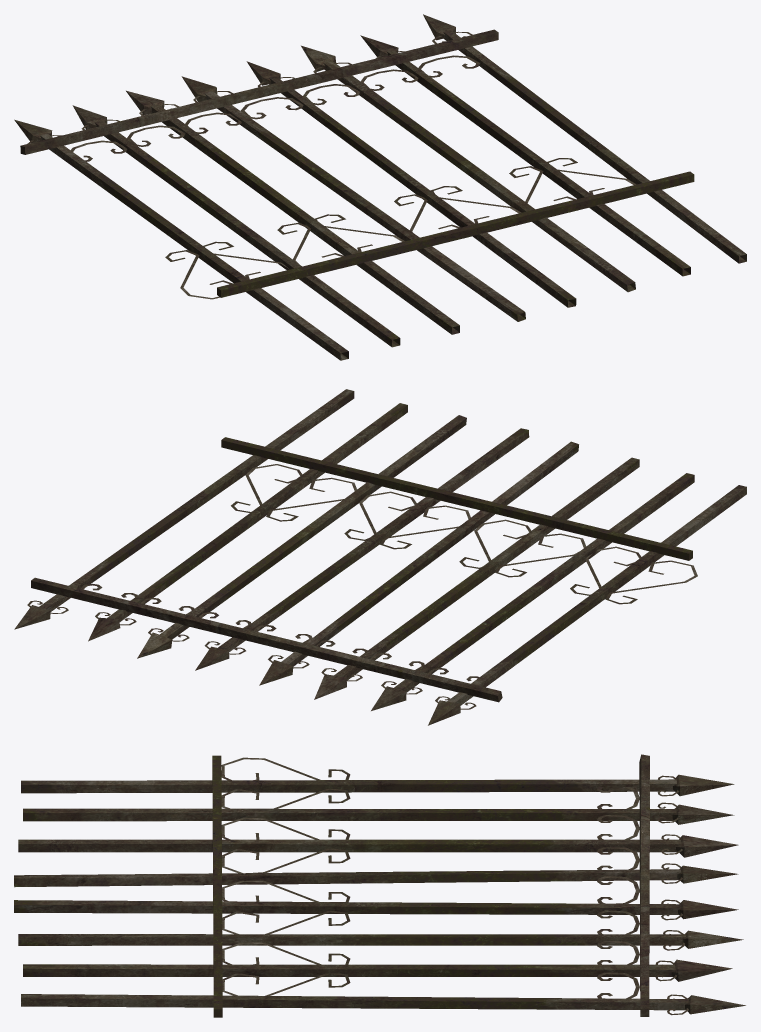
Rendered from TI_Fence_G_01_LOD_01.fbx.
3 views of the same model, one above another, from view 1: azimuth 30°, elevation 25°; view 2: azimuth 150°, elevation 25°; view 3: azimuth 270°, elevation 25° (orthographic). The views are drawn at different scales.
Visible parts, largest first — view 1: TI_Fence_G_01_LOD_01; view 2: TI_Fence_G_01_LOD_01; view 3: TI_Fence_G_01_LOD_01.
Boxes of the visible parts, x1,y1,x2,y2 form: TI_Fence_G_01_LOD_01: [14, 14, 746, 360]; TI_Fence_G_01_LOD_01: [14, 389, 746, 725]; TI_Fence_G_01_LOD_01: [14, 754, 745, 1017].
Size of the model in its own units: 3.28 by 0.1094 by 3.85.
